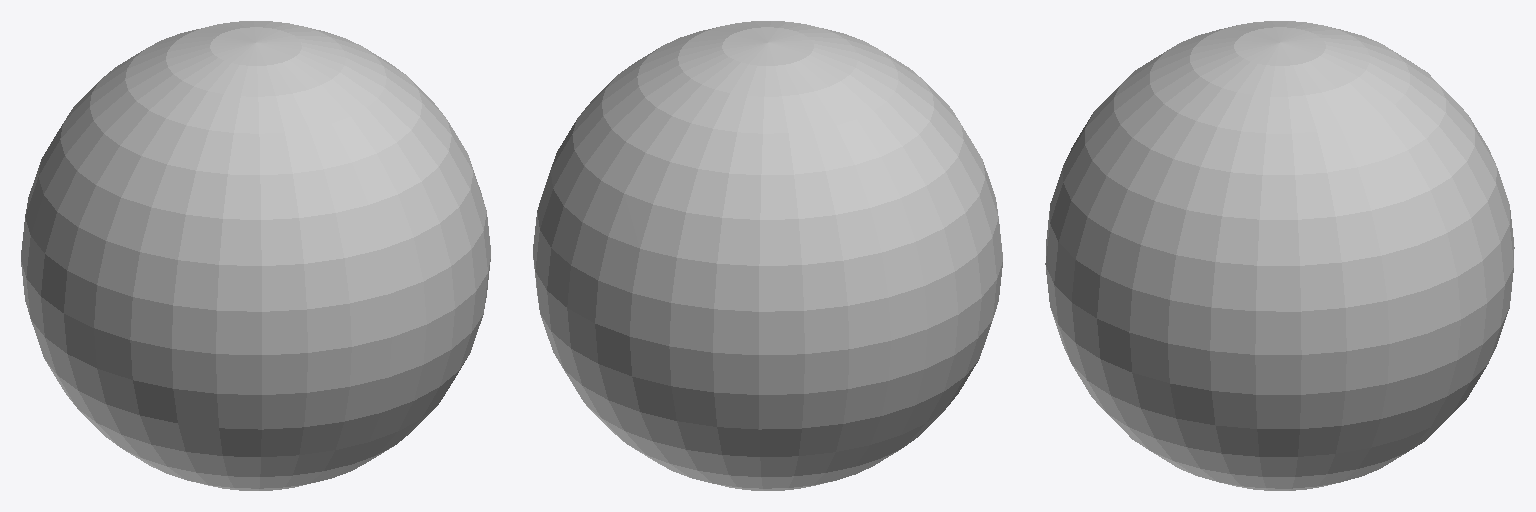
Rendered from Haikyo.obj.
3 renders of one model, left to right at view 1: azimuth 30°, elevation 25°; view 2: azimuth 150°, elevation 25°; view 3: azimuth 270°, elevation 25°, orthographic.
Visible parts, largest first — view 1: 球; view 2: 球; view 3: 球.
Part boxes in pixels (x1,y1,x2,y2): 球: (21,21,490,490); 球: (533,21,1002,490); 球: (1045,21,1514,490).
Size of the model in its own units: 39.83 by 40 by 39.83.